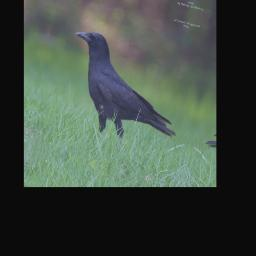Crow: (55, 26, 194, 162)
